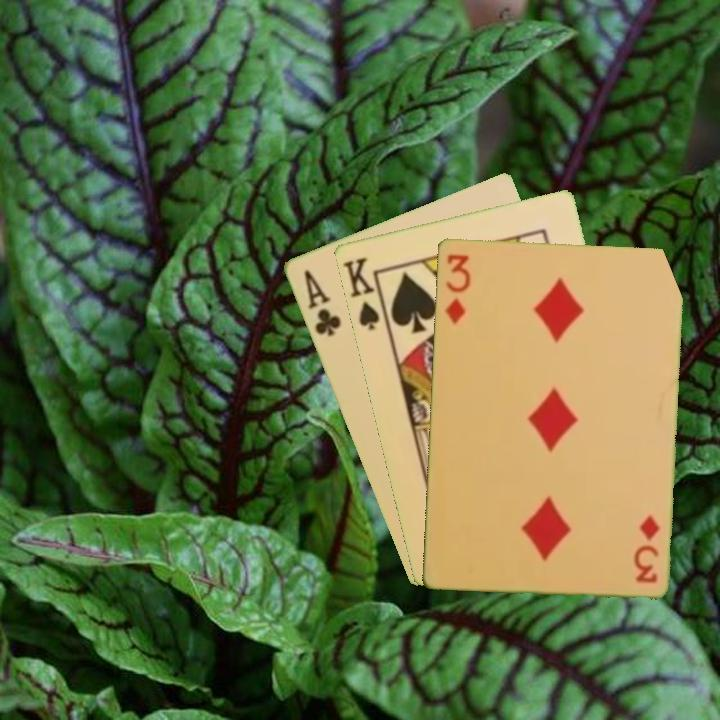3d: (440, 250, 473, 327), (632, 511, 662, 586)
Ac: (300, 265, 344, 339)
Ks: (339, 253, 382, 333)
